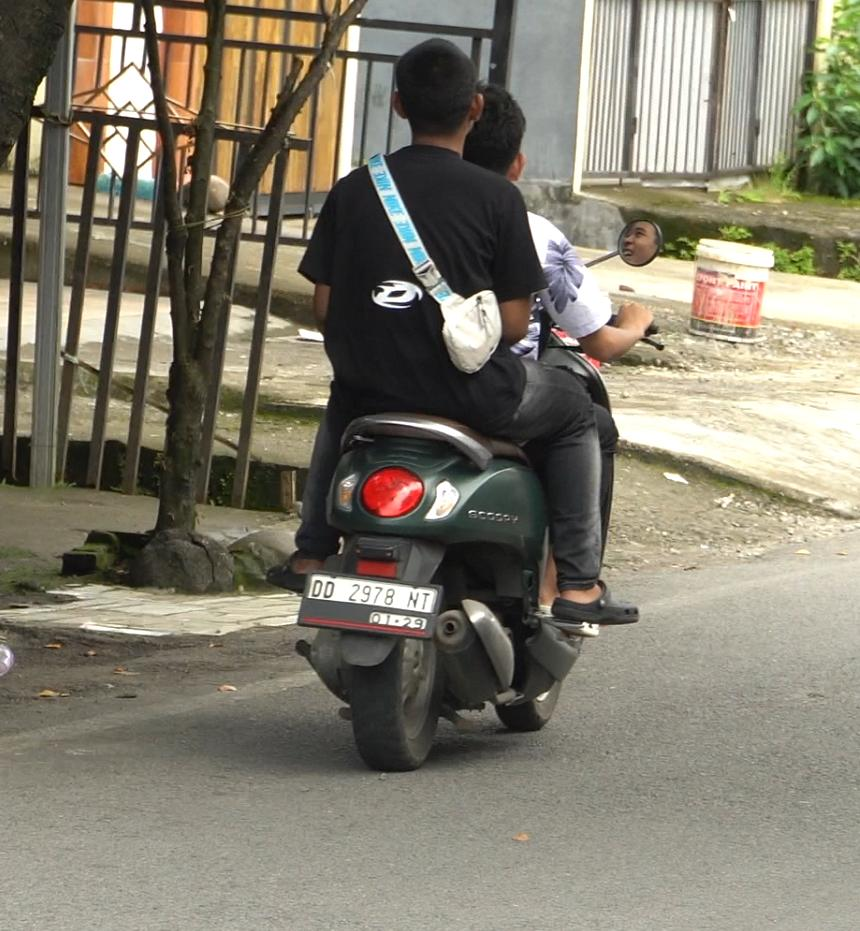number-plate: (289, 561, 445, 636)
